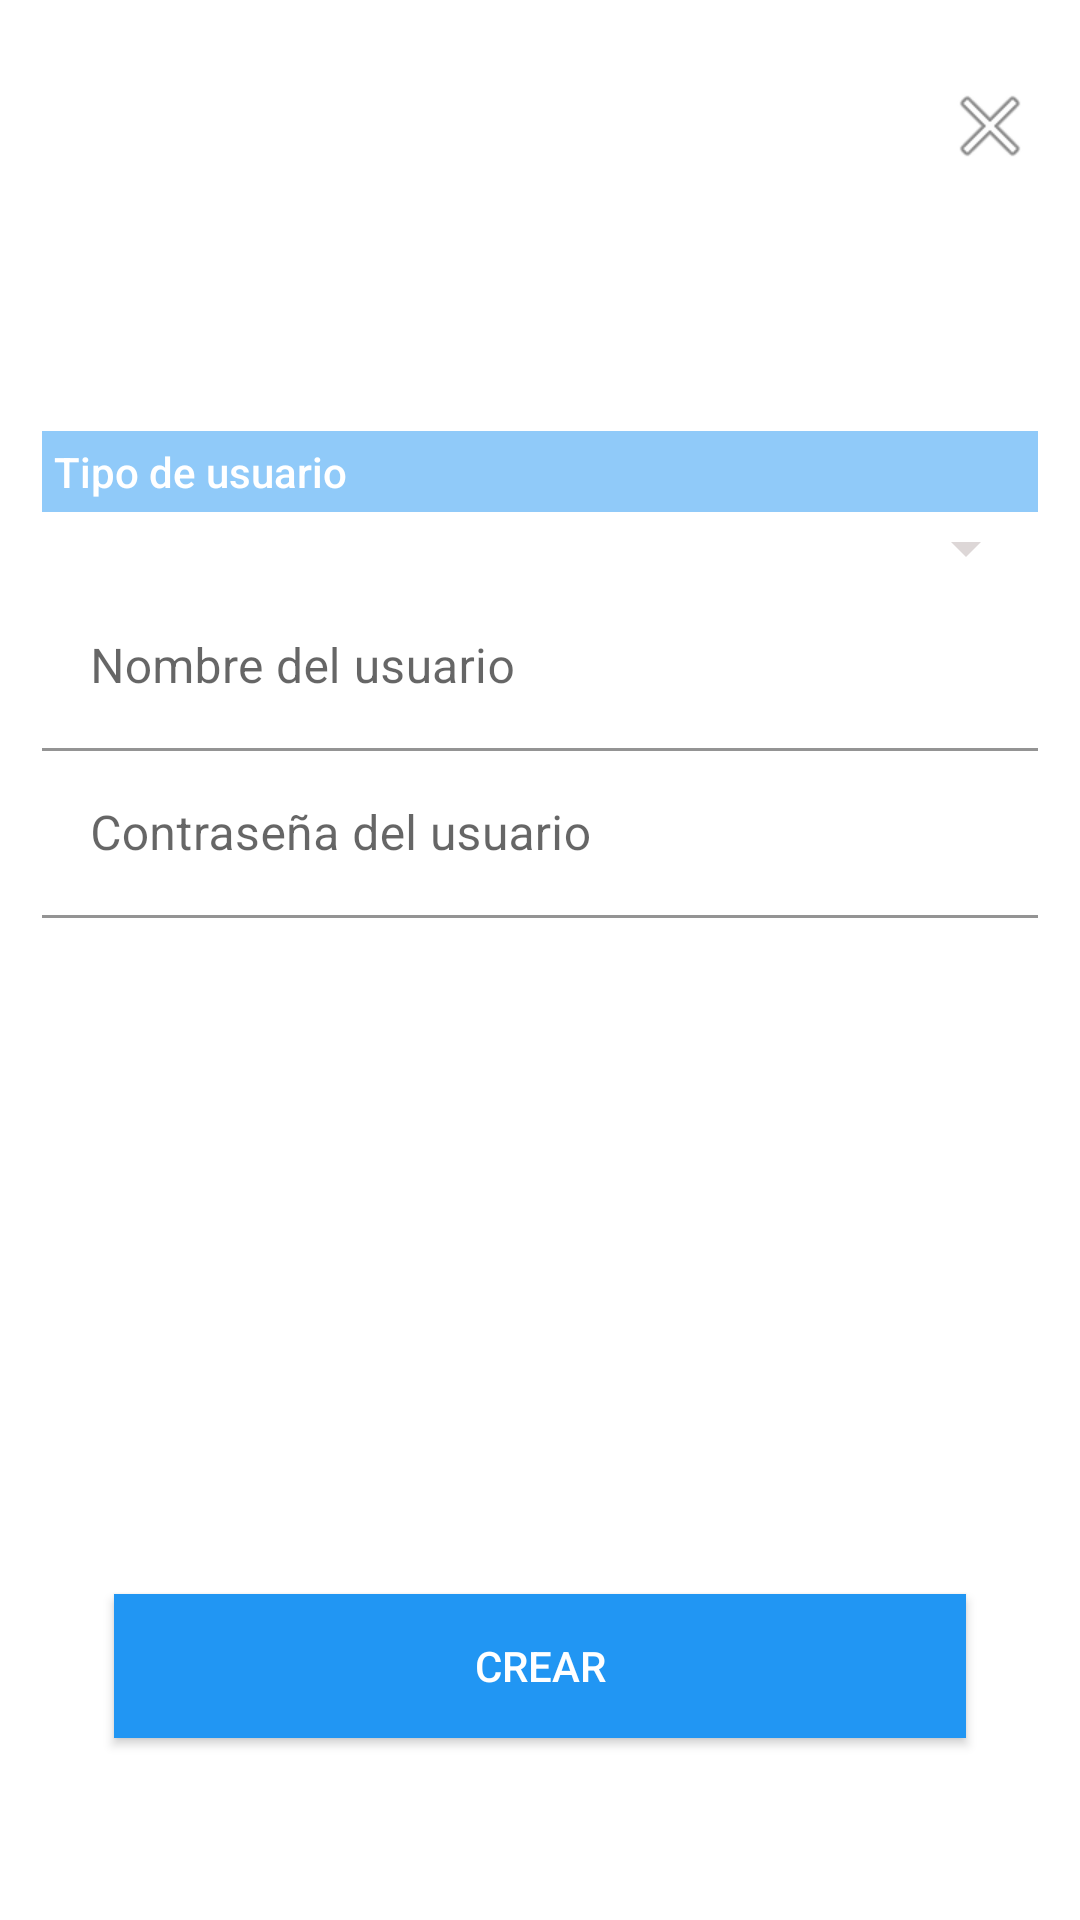

Icons on this 1080×1920 Android screen, each with its box as (x1, y1, x2, y2):
close clear cancel: (960, 96, 1020, 156)
